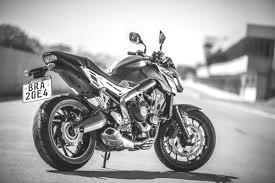placa_mercosul: (22, 75, 51, 103)
